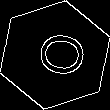O_W: (25, 29, 85, 81)
